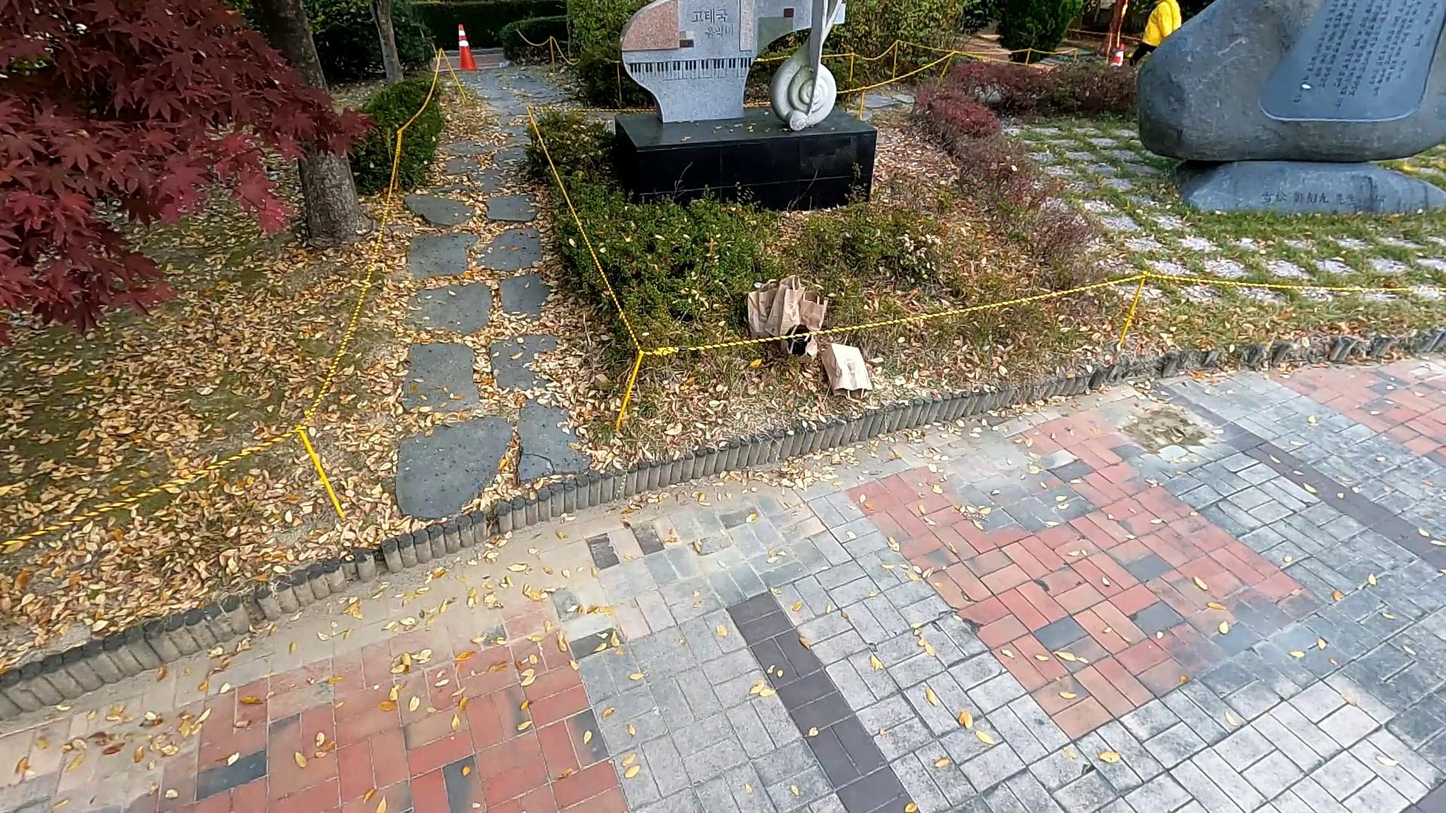trash: (818, 337, 876, 410), (763, 270, 803, 339), (791, 277, 837, 335), (748, 276, 781, 337), (779, 320, 822, 363)
